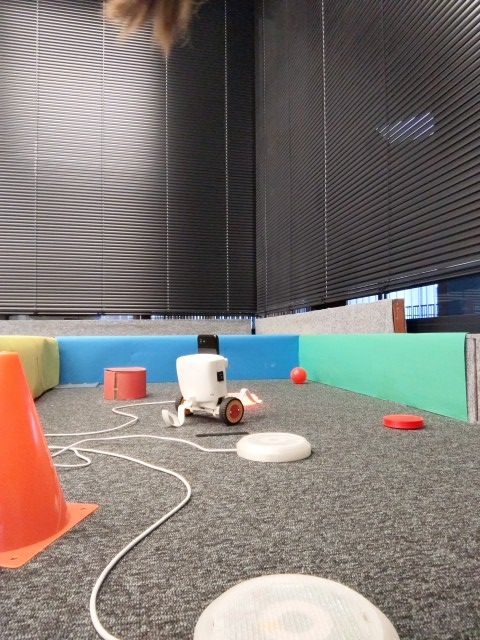br: (152, 331, 266, 424)
o: (193, 574, 407, 640), (231, 430, 313, 463)
